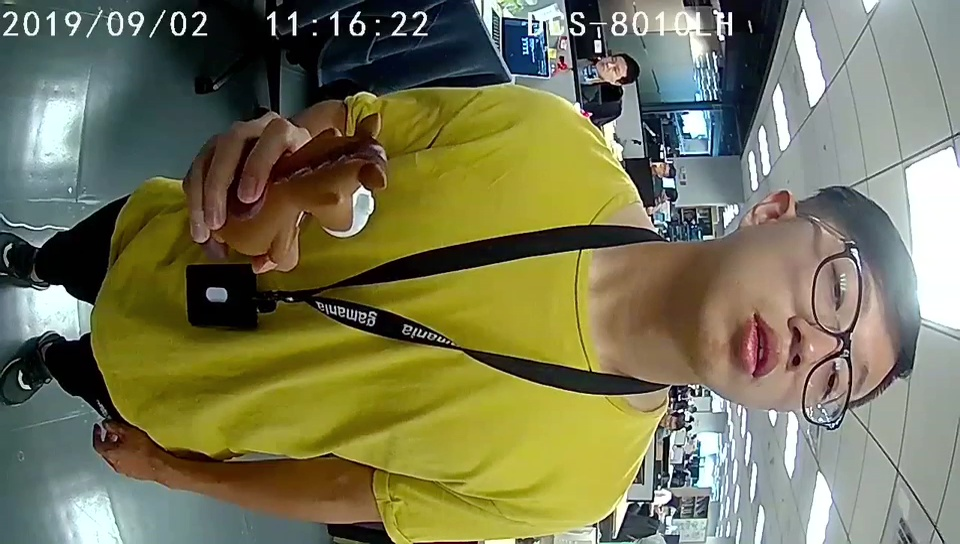horse: (293, 113, 388, 237)
